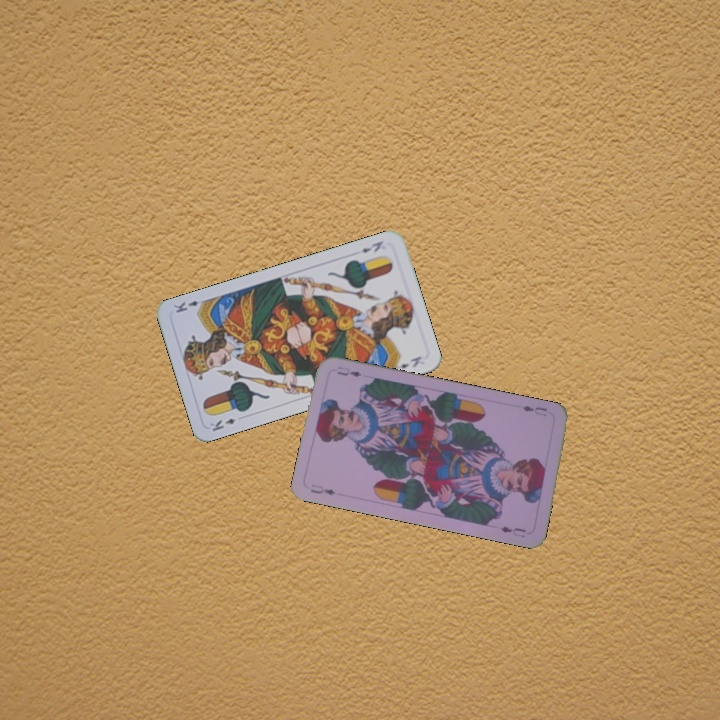EK: (206, 414, 238, 434), (358, 237, 386, 255)
EU: (518, 401, 550, 419), (307, 482, 338, 498)
